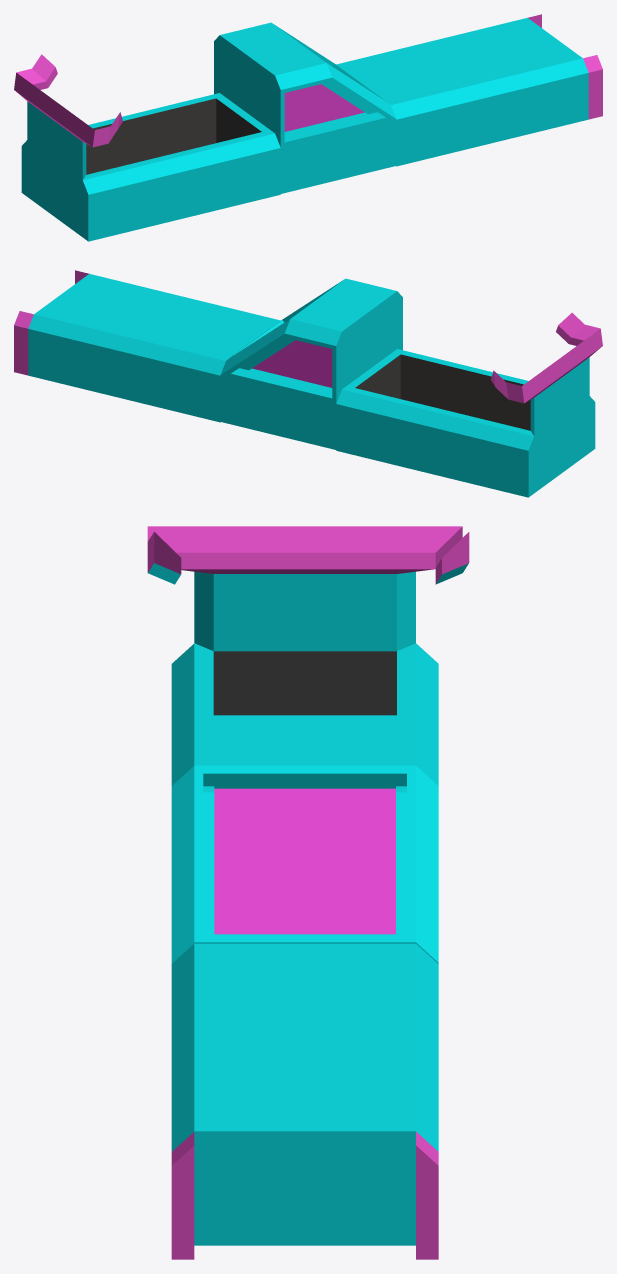
Rendered from MYBIODADHATESME (CAR).glb.
3 views of the same model, one above another, from view 1: azimuth 30°, elevation 25°; view 2: azimuth 150°, elevation 25°; view 3: azimuth 270°, elevation 25° (orthographic). The views are drawn at different scales.
Parts seen in each view (by area): view 1: car :3; view 2: car :3; view 3: car :3.
Boxes of the visible parts, x1,y1,x2,y2 form: car :3: (14, 14, 602, 241); car :3: (14, 270, 602, 497); car :3: (147, 526, 469, 1259).
Size of the model in its own units: 8.93 by 2.09 by 2.41.
